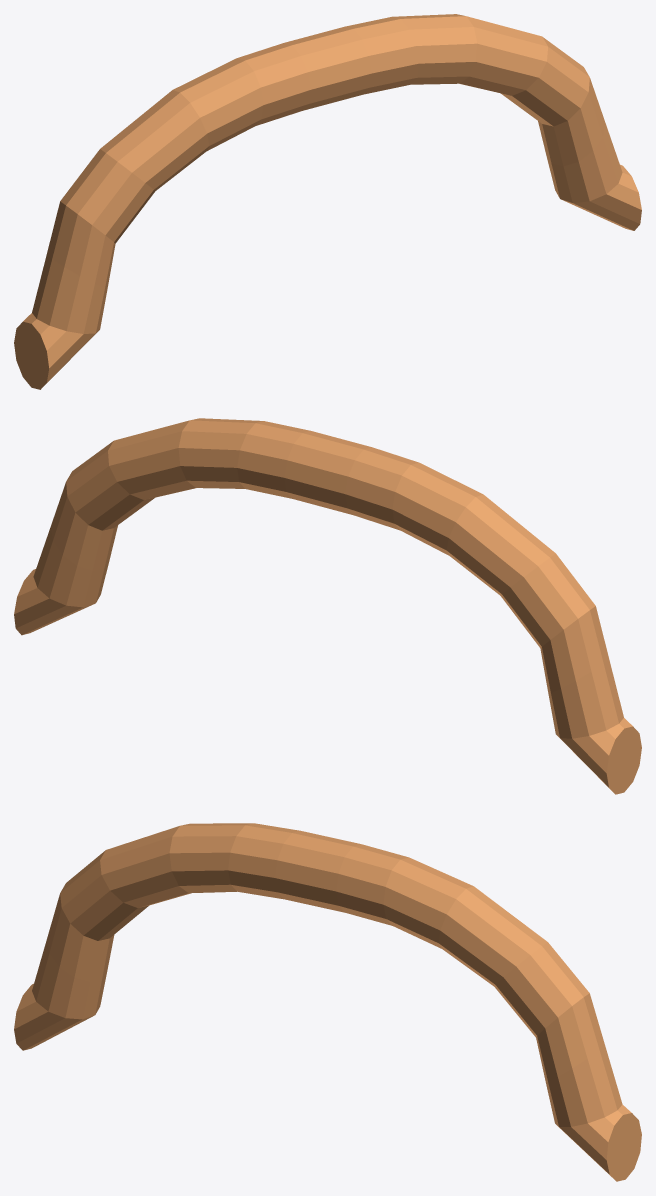
Rendered from S_LowAnseCadena.fbx.
3 views of the same model, one above another, from view 1: azimuth 30°, elevation 25°; view 2: azimuth 150°, elevation 25°; view 3: azimuth 330°, elevation 25° (orthographic).
Parts seen in each view (by area): view 1: M_LowAnseCadena; view 2: M_LowAnseCadena; view 3: M_LowAnseCadena.
Part boxes in pixels (x1=…): M_LowAnseCadena: x1=14, y1=14, x2=641, y2=389; M_LowAnseCadena: x1=14, y1=418, x2=641, y2=794; M_LowAnseCadena: x1=14, y1=823, x2=641, y2=1181.
Size of the model in its own units: 9.77 by 4.41 by 1.01.
